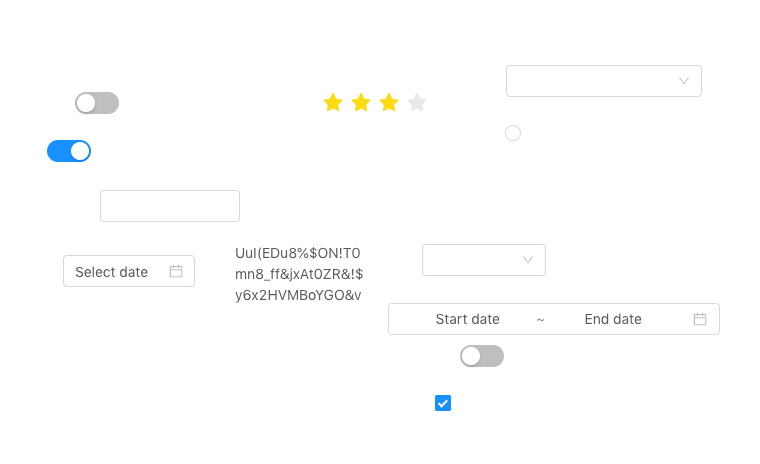Checkbox: (435, 392, 451, 413)
DatePicker: (63, 255, 195, 287)
Input: (100, 190, 240, 222)
Radio: (505, 122, 521, 142)
RangePicker: (388, 303, 754, 335)
Rate: (323, 86, 443, 118)
Select: (506, 65, 702, 97), (422, 244, 546, 276)
Switch: (460, 344, 504, 368), (75, 91, 119, 115), (47, 139, 91, 163)
Text: (235, 242, 369, 307)
